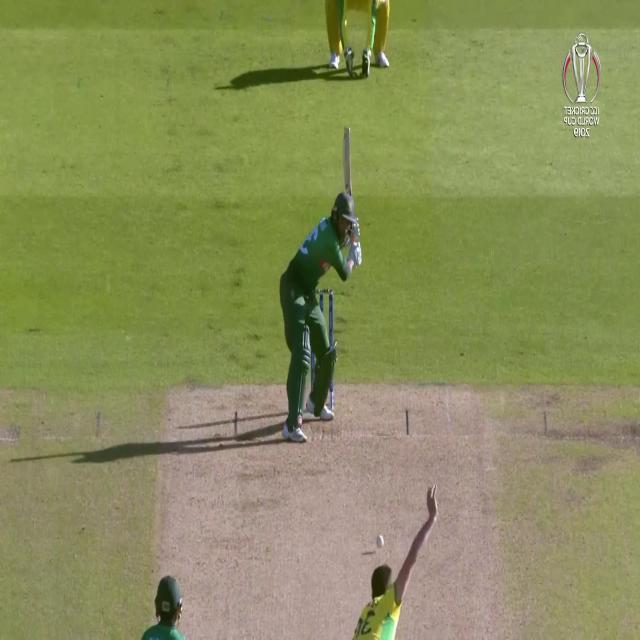ball: (374, 532, 386, 554)
